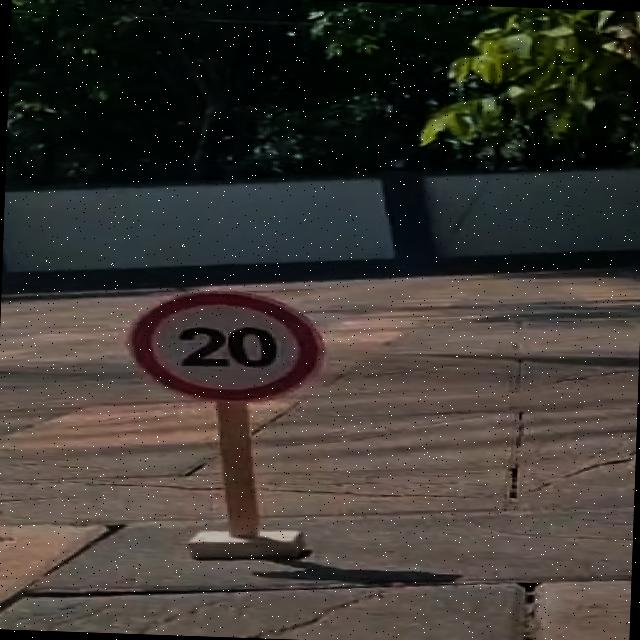Speed20: (110, 278, 344, 413)
